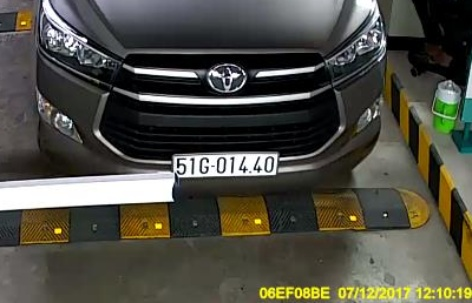plate: (167, 142, 282, 179)
